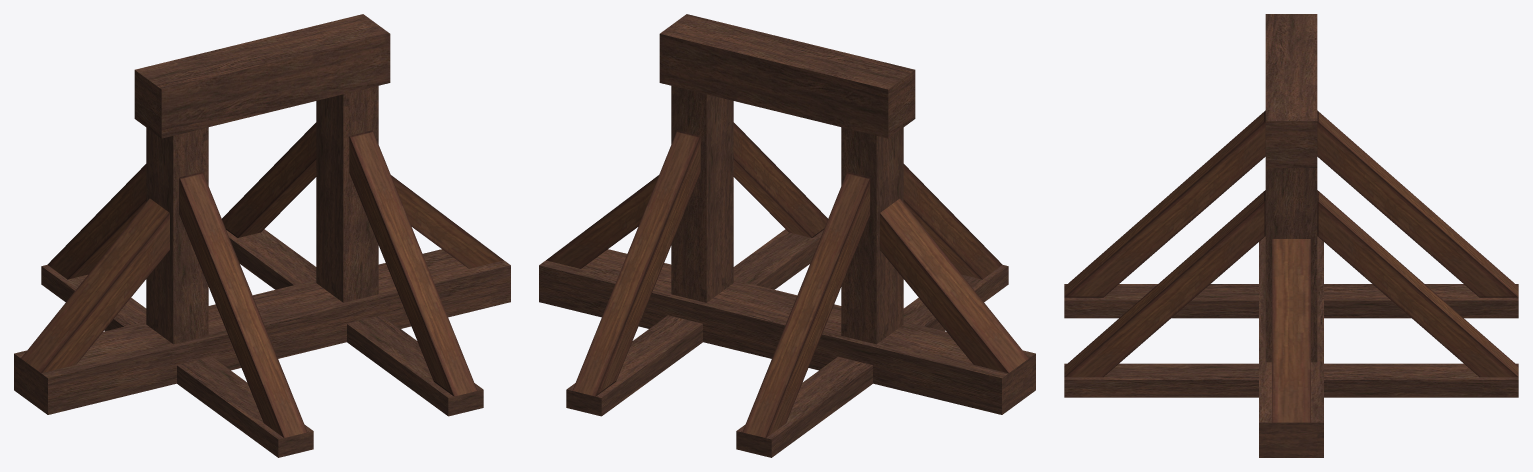
Rendered from Scorpio_Base.fbx.
3 views of the same model, side by side, from view 1: azimuth 30°, elevation 25°; view 2: azimuth 150°, elevation 25°; view 3: azimuth 270°, elevation 25° (orthographic). The views are drawn at different scales.
Parts seen in each view (by area): view 1: polySurface192; view 2: polySurface192; view 3: polySurface192.
Part boxes in pixels (x1,y1,x2,y2): polySurface192: [14, 14, 510, 457]; polySurface192: [539, 14, 1035, 457]; polySurface192: [1064, 14, 1518, 457].
Size of the model in its own units: 74.06 by 45 by 65.62.
6 materials, 6 textured.
